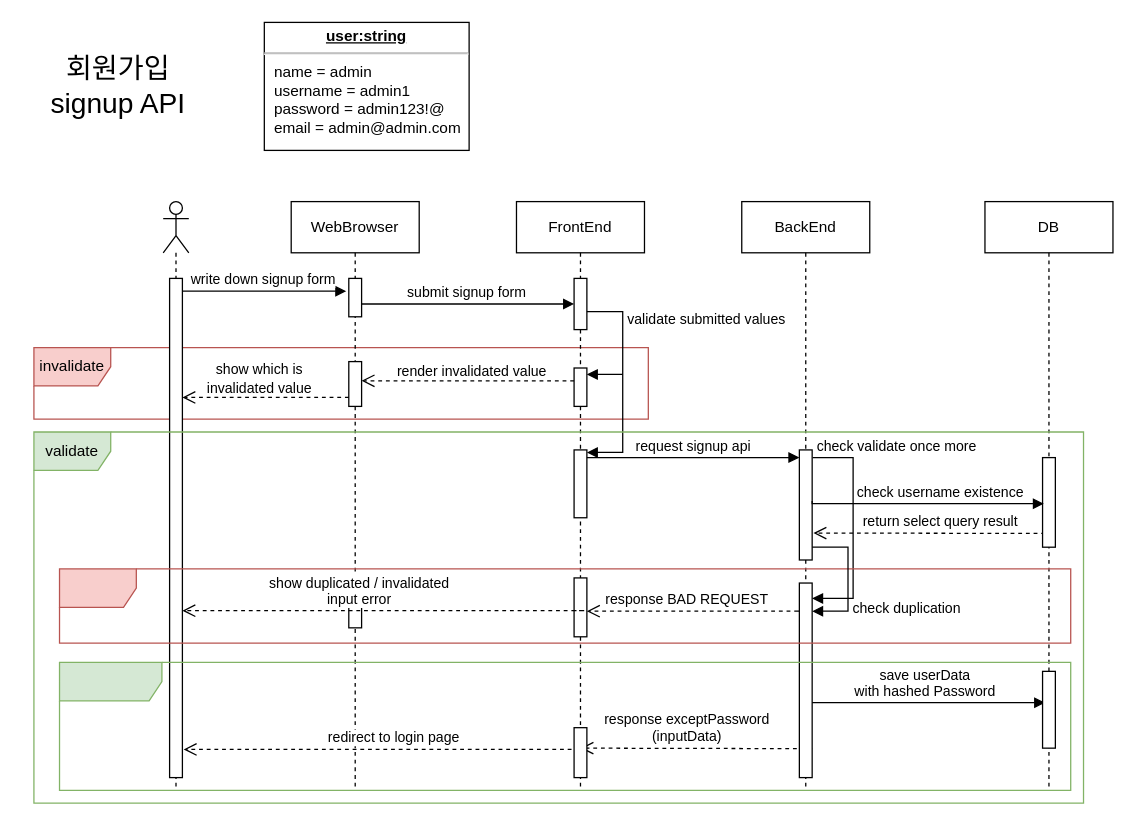
Some shapes in this 1135 by 826 pixel diagram are drawn without their labels. The shapes that lost their labels are listed below. From the top down, each one's centre as x and y in pixels, then its label:
At (x=564, y=605): "duplicate".
At (x=564, y=725): "not duplicate".
